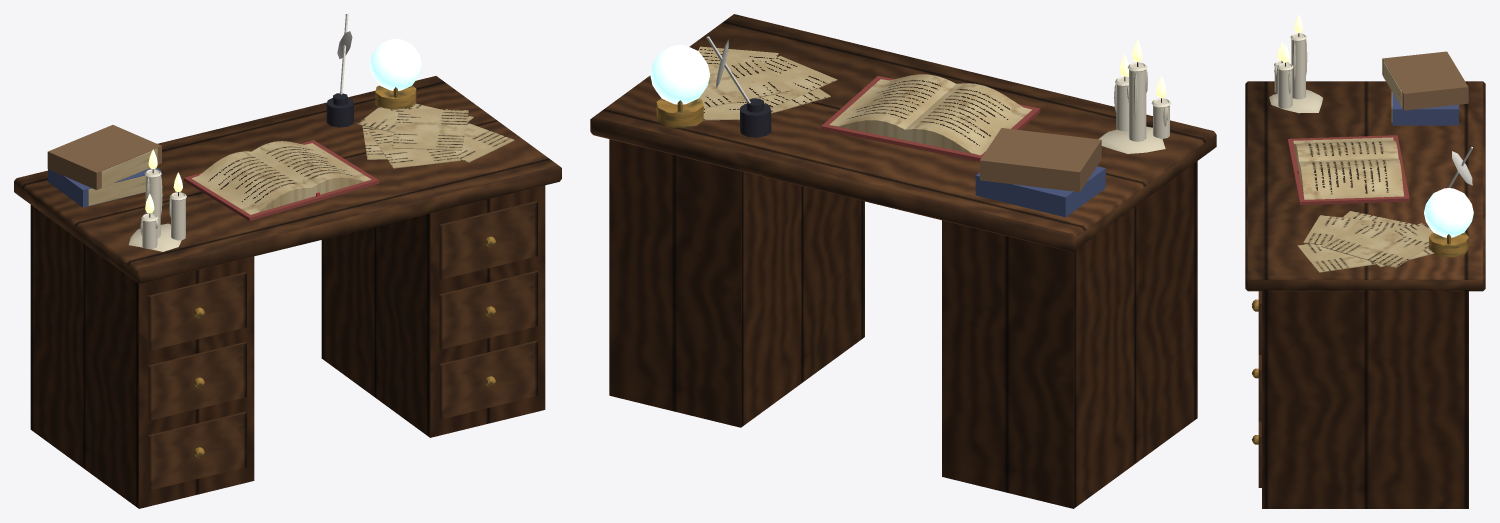
File: writing_desk.glb
3 views of the same model, side by side, from view 1: azimuth 30°, elevation 25°; view 2: azimuth 150°, elevation 25°; view 3: azimuth 270°, elevation 25° (orthographic). The views are drawn at different scales.
Parts seen in each view (by area): view 1: writing_desk; view 2: writing_desk; view 3: writing_desk.
Boxes of the visible parts, x1,y1,x2,y2 form: writing_desk: [14, 14, 561, 508]; writing_desk: [590, 14, 1216, 508]; writing_desk: [1245, 14, 1485, 508].
Size of the model in its own units: 1.4 by 1.06 by 0.72.
Materials: 17 (5 with a texture image).
